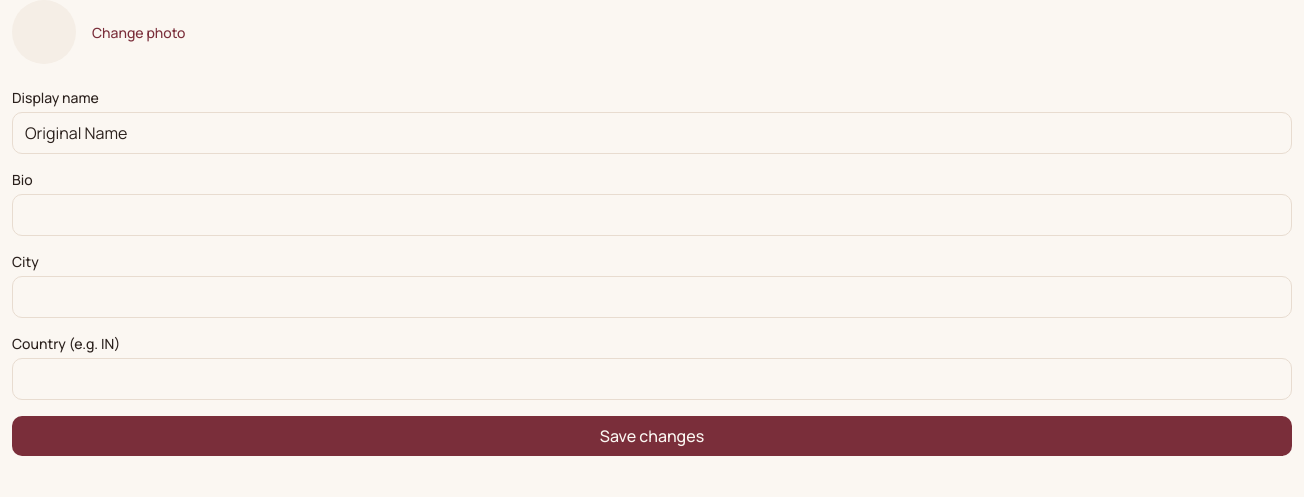
Test case: EditProfileForm › rejects an invalid country code
Step 1. Type "India" into the field labelled "Country (e.g. IN)" → (652, 379), box [12,358,1292,400]
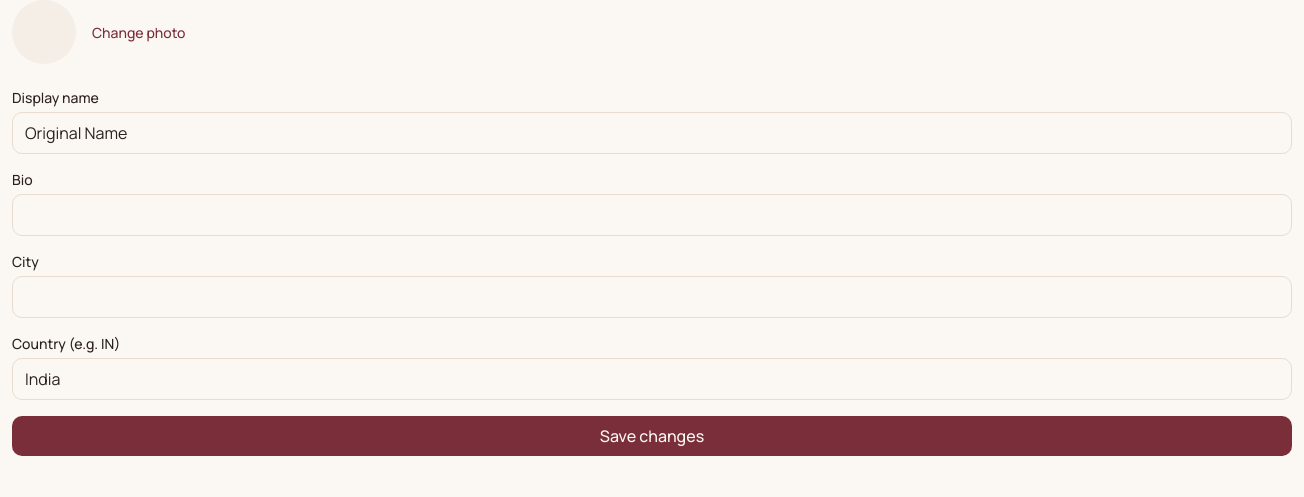
Step 2. Click the button "Save changes" → (652, 436), box [12,416,1292,456]
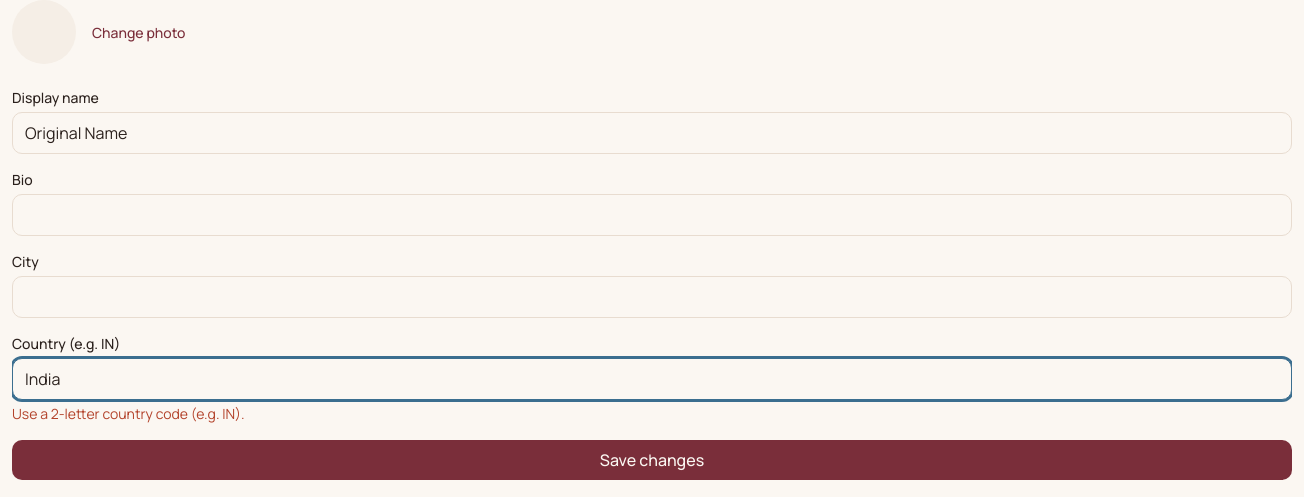
Check: the text "Use a 2-letter country code (e.g. IN)." is shown, box [12,404,245,423]
